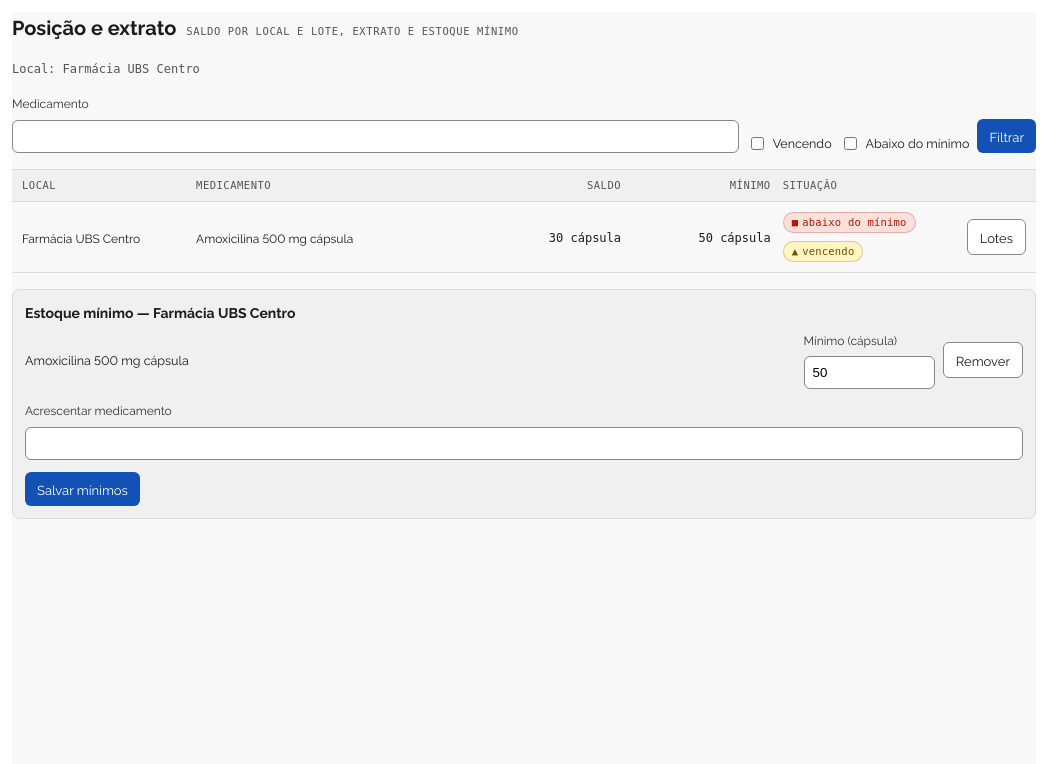
Scenario: PharmacyStock › extrato mostra o motivo quando houver; 'Carregar mais' do extrato usa o cursor
Click the button with aria-label "Lotes de Amoxicilina 500 mg cápsula".
click(996, 237)  # box [967,219,1026,255]
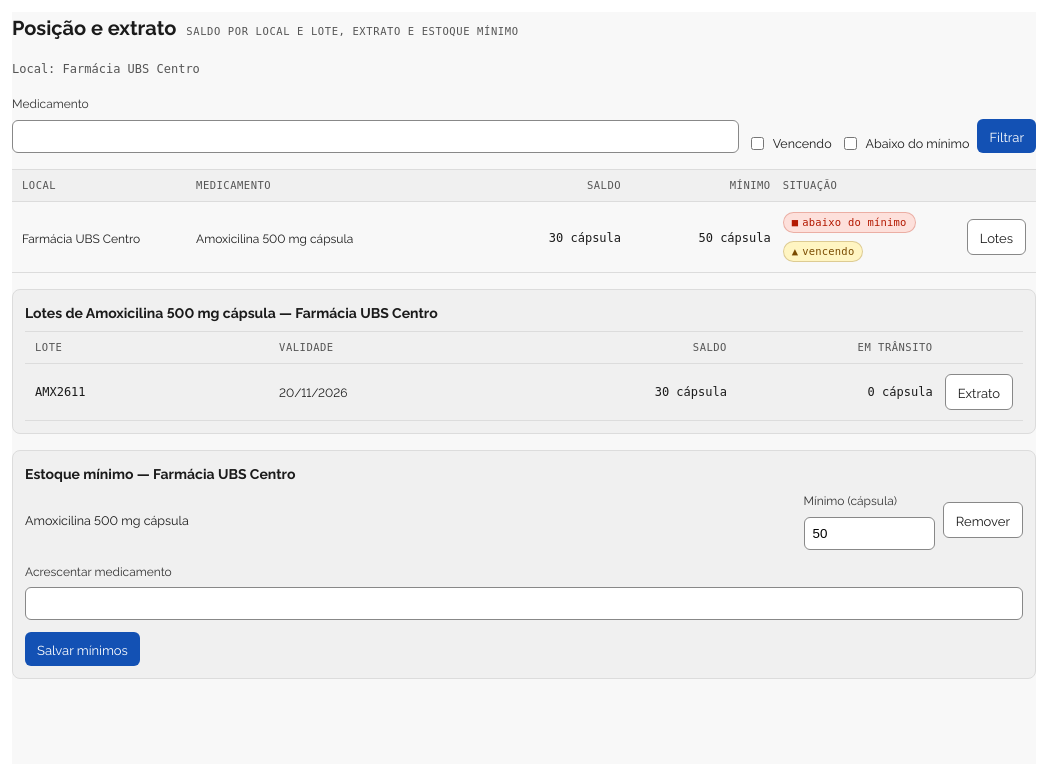
Click the button with aria-label "Extrato do lote AMX2611".
click(979, 392)  # box [945,374,1013,410]
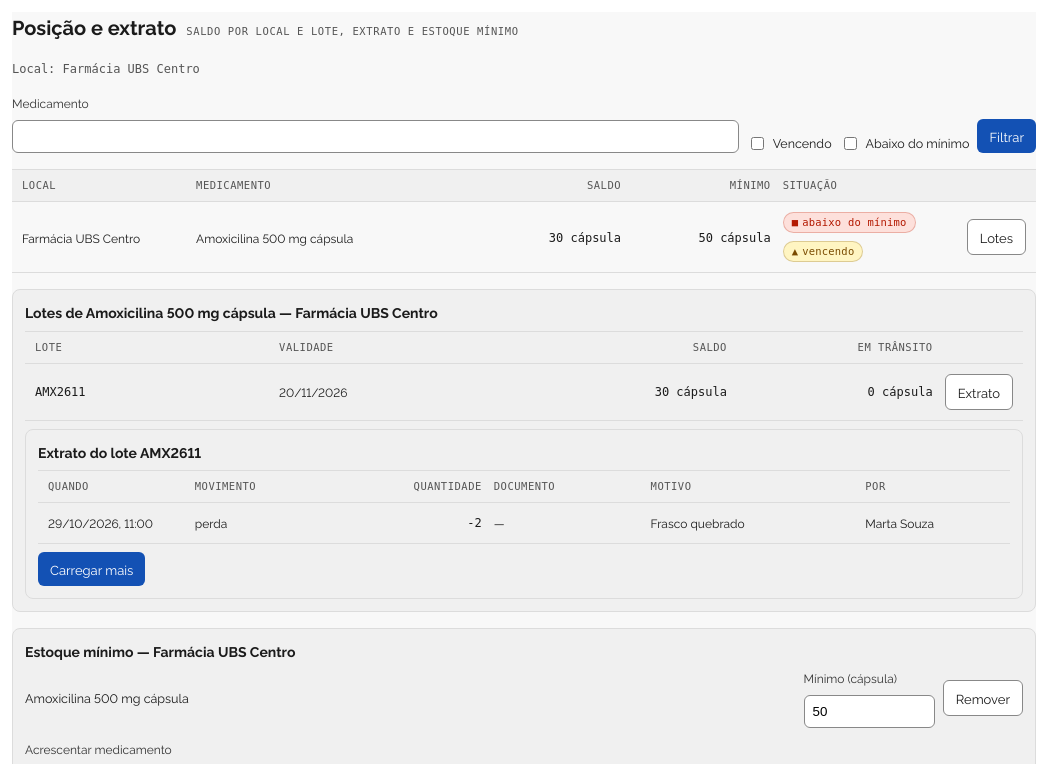
Expected: the row "29/10/2026, 11:00 perda -2 — Frasco quebrado Marta Souza" is shown, [38,504,1010,544]
Click the button "Carregar mais".
click(92, 569)  # box [38,552,145,586]
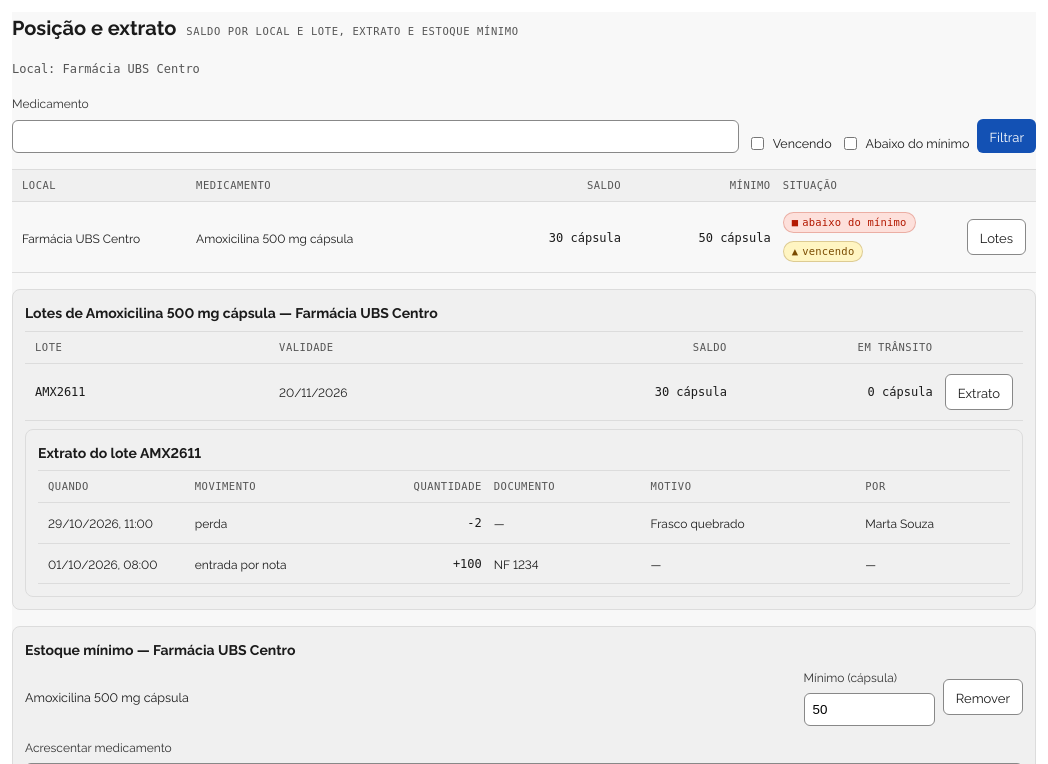
Expected: the row "01/10/2026, 08:00 entrada por nota +100 NF 1234 — —" is shown, [38,544,1010,584]
